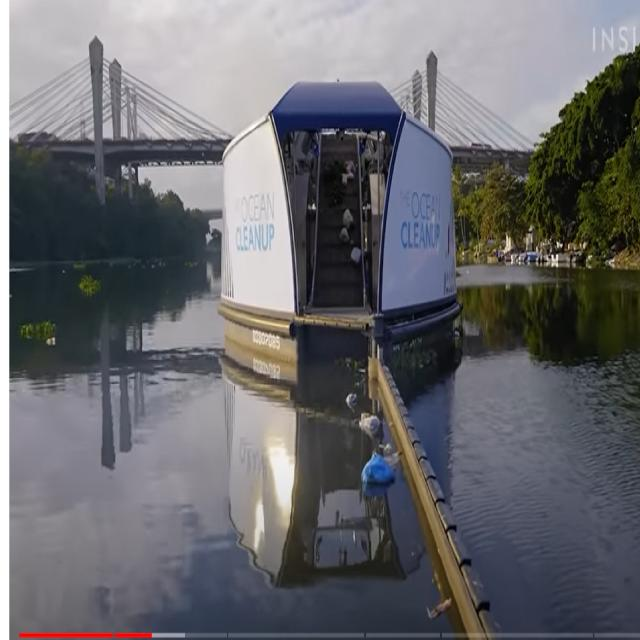plasticcover: (355, 440, 402, 498), (355, 412, 392, 452)
